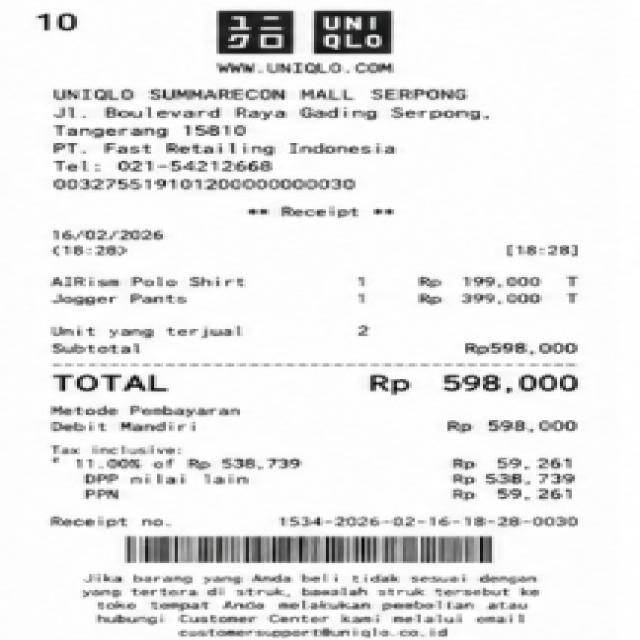date: (42, 224, 175, 260)
store: (204, 6, 414, 59), (45, 81, 472, 106)
total: (46, 366, 588, 399)
